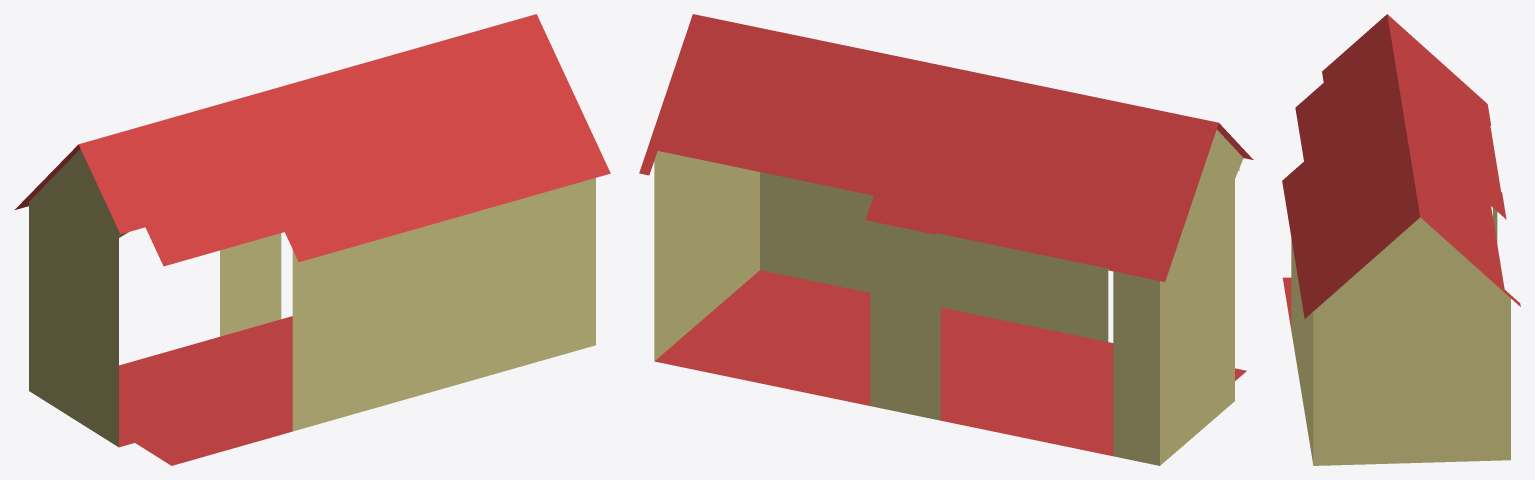
3 renders of one model, left to right at view 1: azimuth 30°, elevation 25°; view 2: azimuth 150°, elevation 25°; view 3: azimuth 270°, elevation 25°, orthographic. The views are drawn at different scales.
Bounding box in the file's own units: 26.45 × 12.74 × 14.7.
